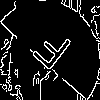F: (25, 25, 74, 80)
